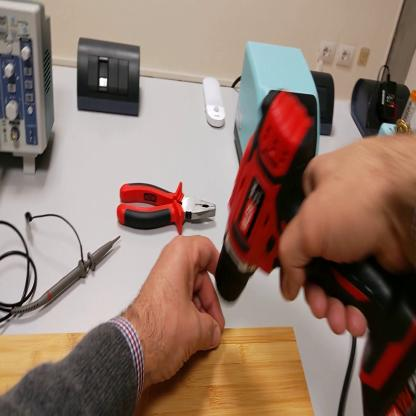electric screwdriver: (216, 97, 416, 384)
hand: (278, 134, 406, 336), (133, 232, 227, 386)
oscilloscope: (2, 3, 56, 175)
oscilloscope probe tip: (11, 234, 120, 321)
pliers: (116, 181, 218, 236)
socket: (351, 73, 413, 141), (312, 70, 337, 136)
welder base: (376, 91, 416, 142)
welder station: (234, 39, 322, 169)
working area: (1, 327, 316, 416)
